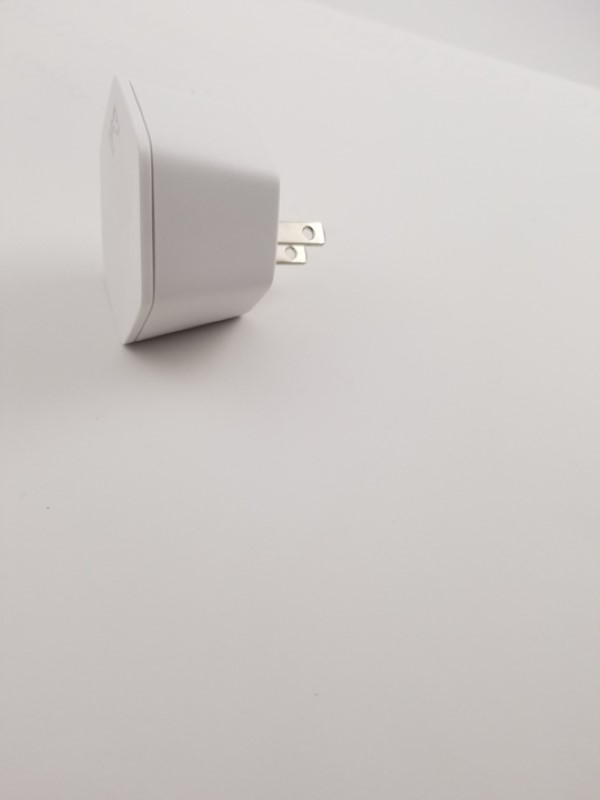pod: (95, 73, 328, 343)
